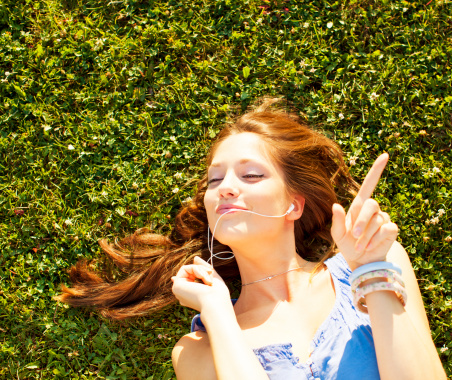deitado: (139, 103, 430, 380)
